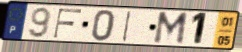0: (90, 8, 118, 42)
1: (189, 12, 208, 48)
9: (27, 6, 53, 39)
F: (51, 8, 84, 40)
I: (121, 10, 134, 43)
M: (152, 11, 190, 47)
